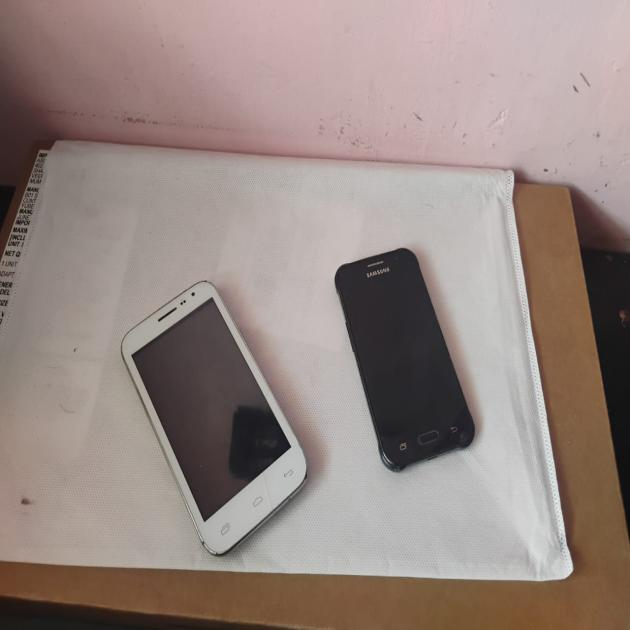phone: (111, 292, 314, 540), (334, 258, 476, 491)
